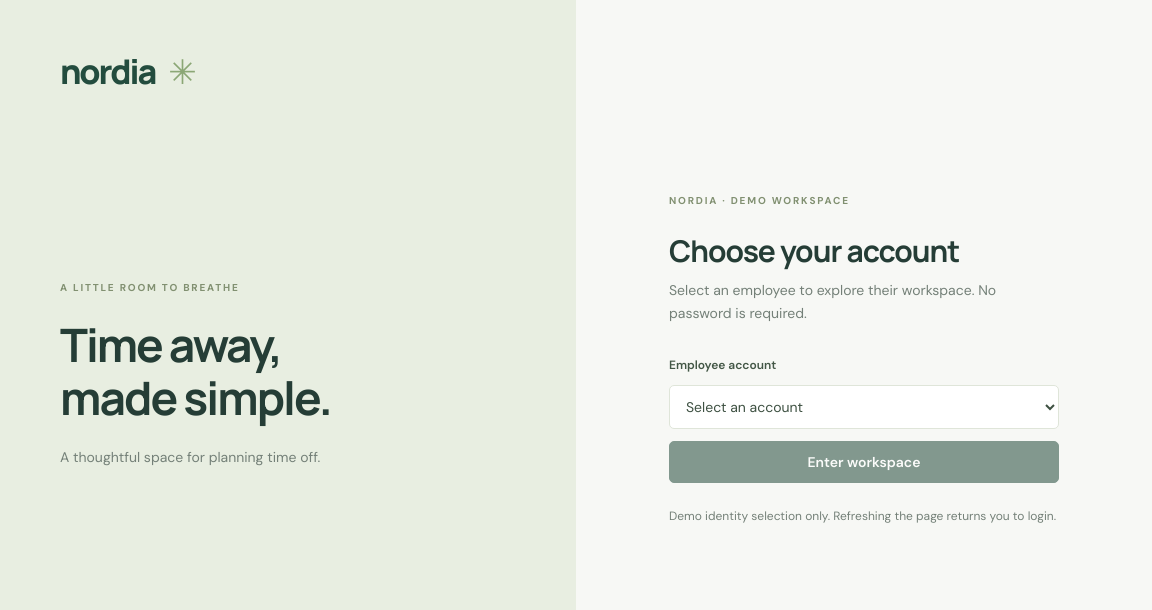
Test: shows personal leave for employees and also team navigation for managers
Select "Bilel Khemiri · Platform · employee" in the dropdown labelled "Employee account" at {"x": 864, "y": 407}, box left=669, top=385, right=1059, bottom=429
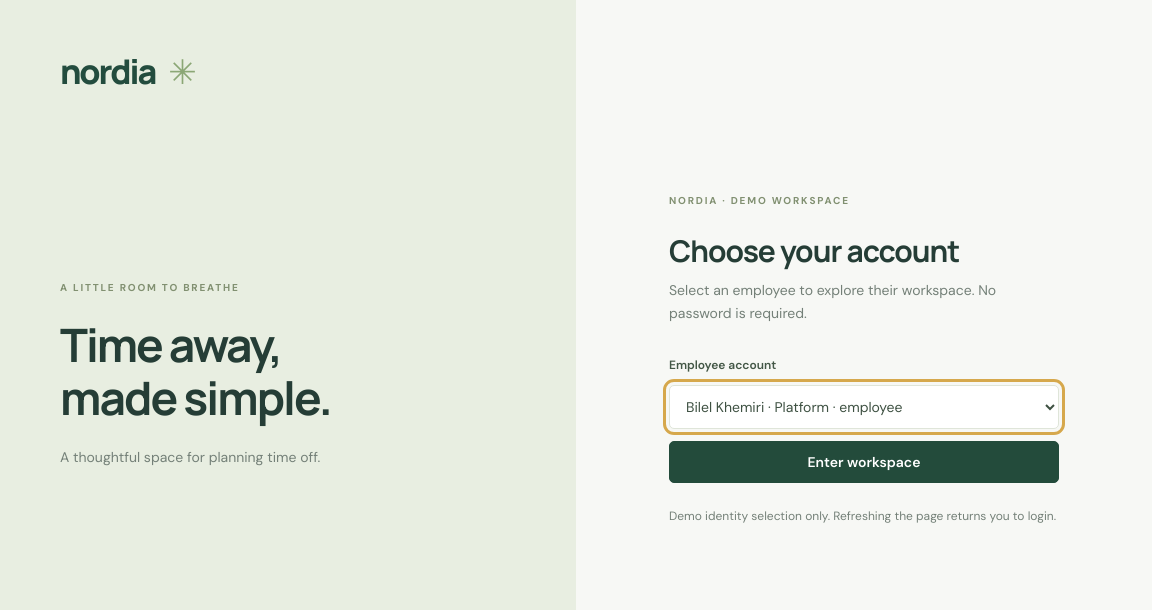
Click the button "Enter workspace" at {"x": 864, "y": 462}, box left=669, top=441, right=1059, bottom=483
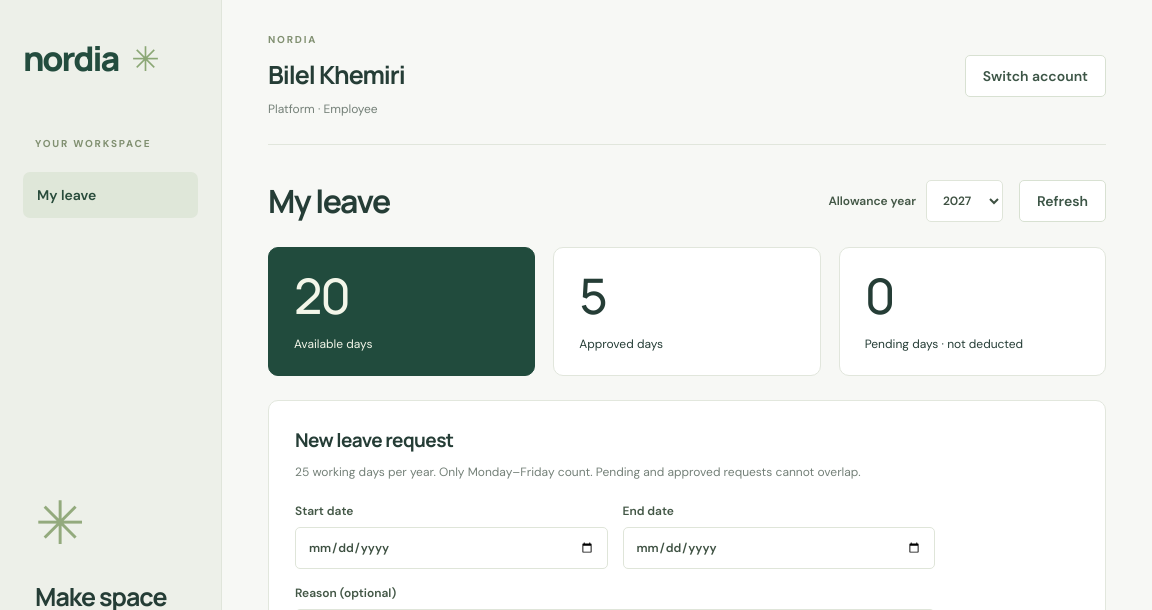
Expected: the link "Team requests" is not shown
Now the text "Available days" is shown, box left=294, top=336, right=372, bottom=352
Now the heading "Bilel Khemiri" is shown, box left=268, top=56, right=405, bottom=92
Click the button "Switch account" at {"x": 1035, "y": 76}, box left=965, top=55, right=1106, bottom=97
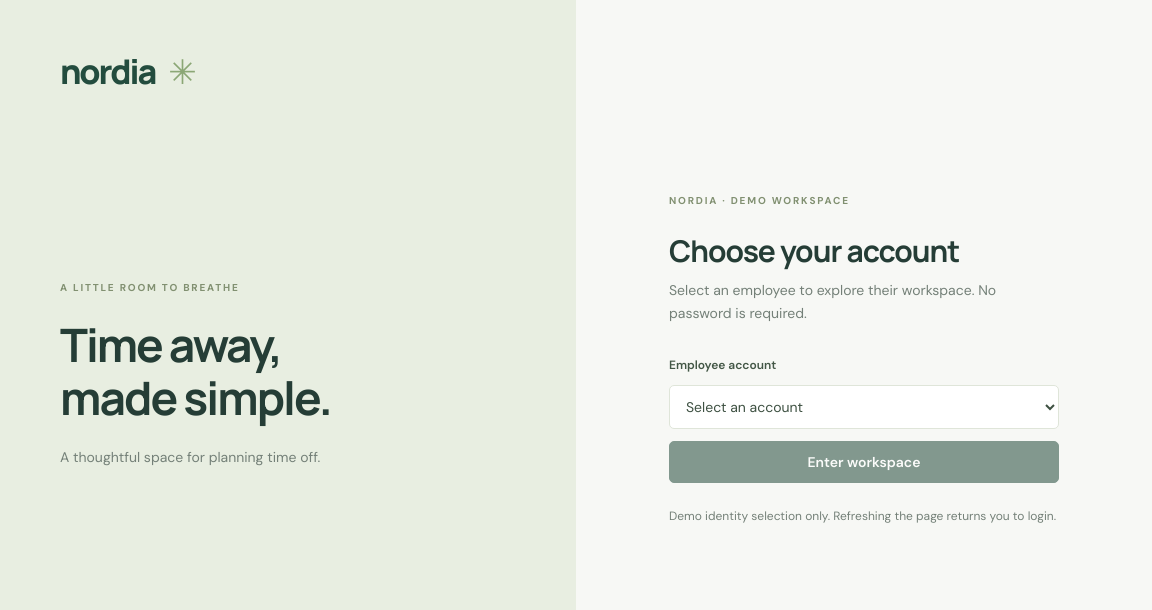
Select "Amel Ben Youssef · Platform · manager" in the dropdown labelled "Employee account" at {"x": 864, "y": 407}, box left=669, top=385, right=1059, bottom=429
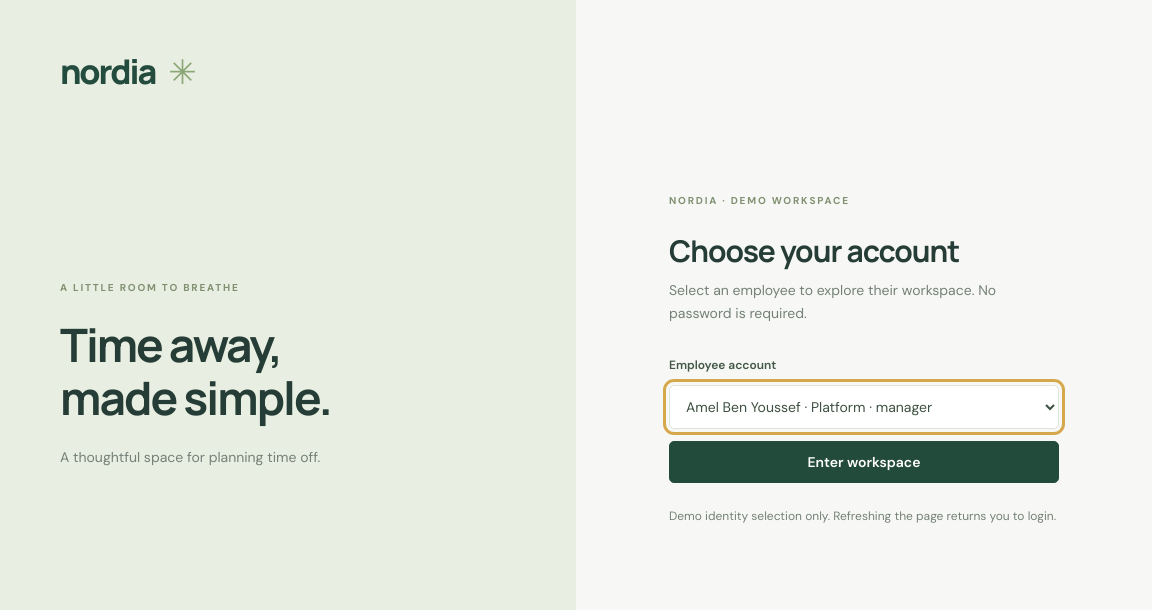
Click the button "Enter workspace" at {"x": 864, "y": 462}, box left=669, top=441, right=1059, bottom=483
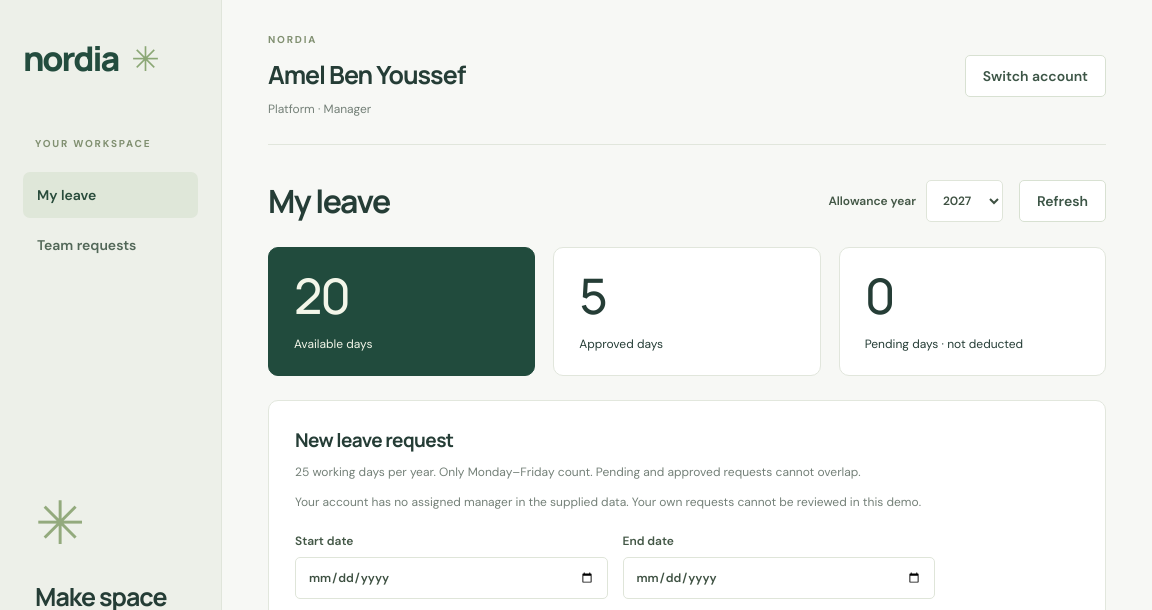
Now the text "Available days" is shown, box left=294, top=336, right=372, bottom=352
Now the link "My leave" is shown, box left=23, top=172, right=198, bottom=218
Click the link "Team requests" at {"x": 87, "y": 244}, box left=37, top=236, right=136, bottom=254
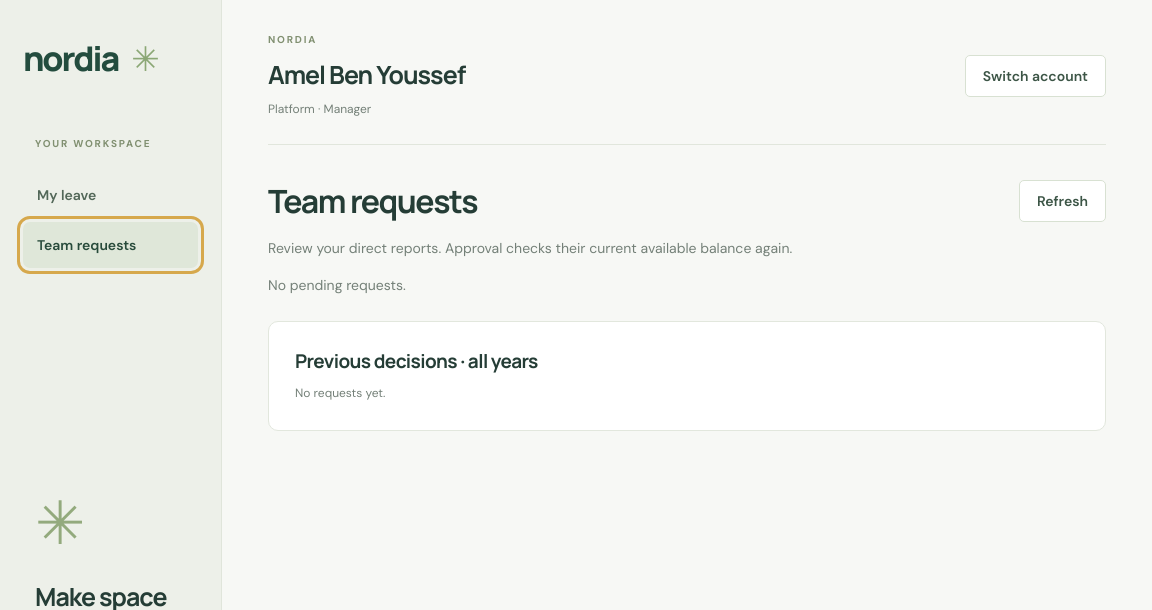
Now the text "No pending requests." is shown, box left=268, top=276, right=406, bottom=294
